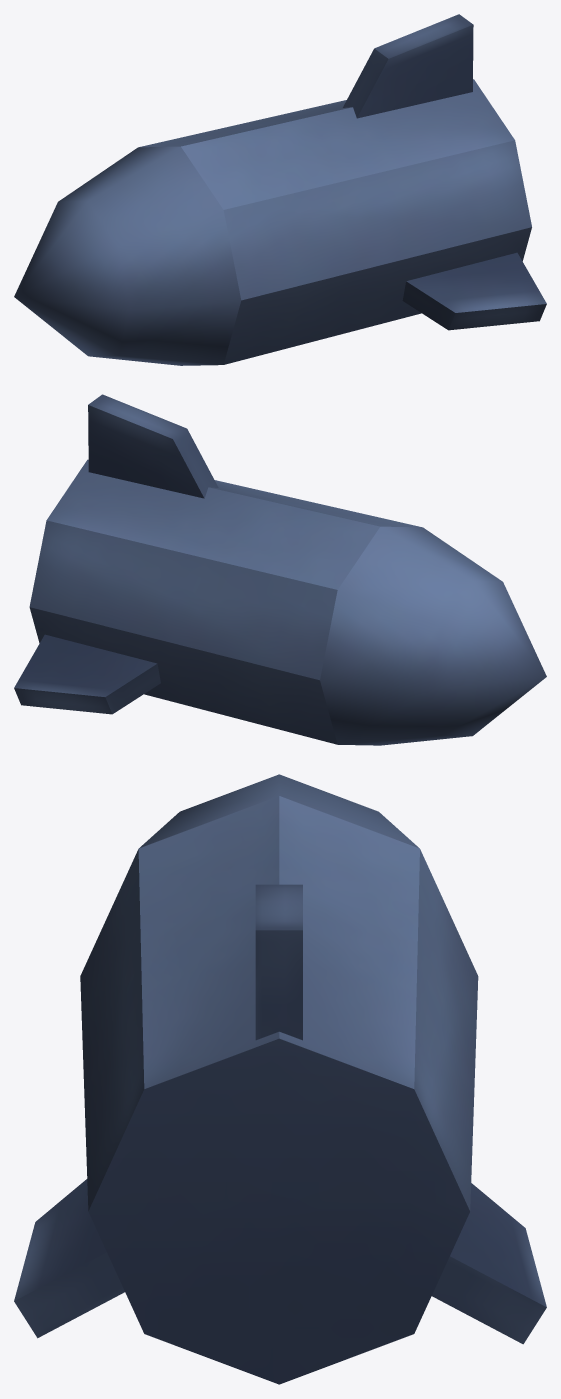
The model's file is Rocket.FBX.
The picture shows the model from 3 angles, top to bottom: view 1: azimuth 30°, elevation 25°; view 2: azimuth 150°, elevation 25°; view 3: azimuth 270°, elevation 25°; orthographic projection. The views are drawn at different scales.
Parts seen in each view (by area): view 1: Rocket; view 2: Rocket; view 3: Rocket.
Boxes of the visible parts, x1,y1,x2,y2 form: Rocket: (14, 14, 546, 365); Rocket: (14, 394, 546, 745); Rocket: (14, 774, 546, 1384).
Bounding box in the file's own units: 21.28 × 12.23 × 12.98.
1 material, 1 textured.
